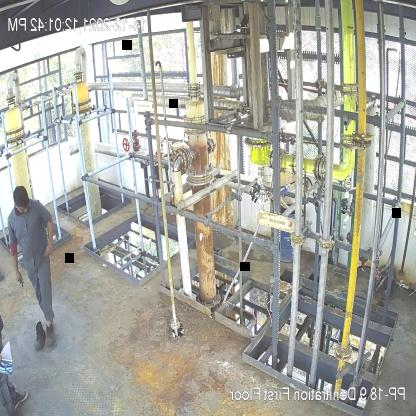shoes: (33, 321, 45, 353), (45, 325, 56, 351)
